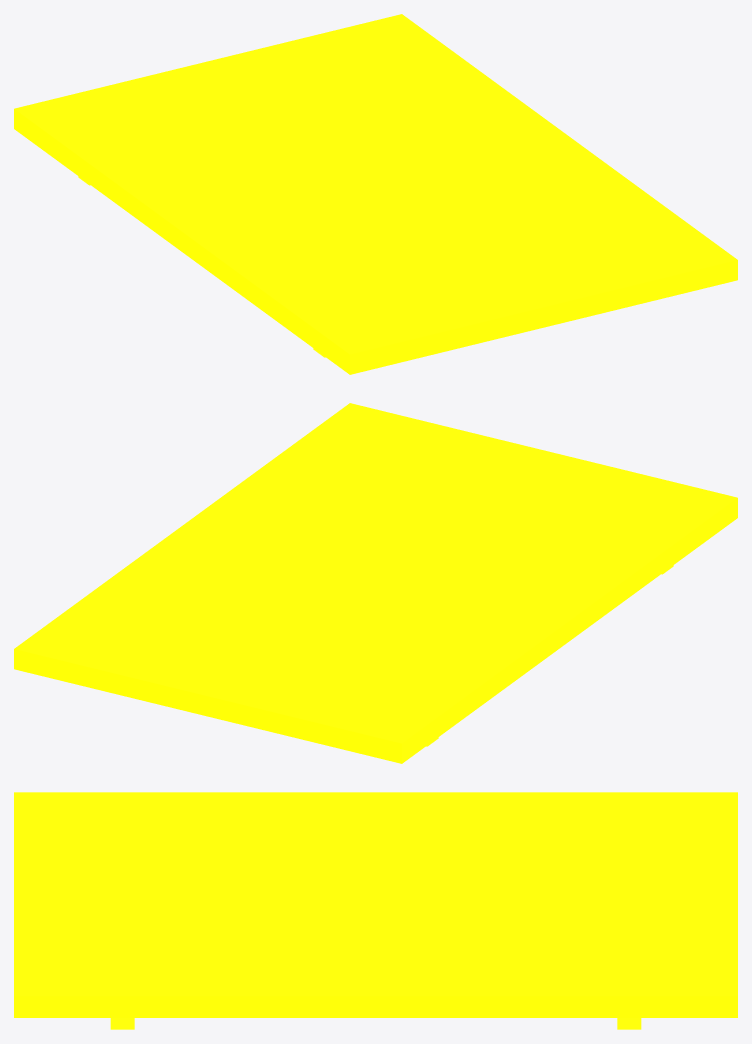
Rendered from solar-panel-house.glb.
3 views of the same model, one above another, from view 1: azimuth 30°, elevation 25°; view 2: azimuth 150°, elevation 25°; view 3: azimuth 270°, elevation 25° (orthographic). The views are drawn at different scales.
Parts seen in each view (by area): view 1: solar-panel-house; view 2: solar-panel-house; view 3: solar-panel-house.
Part boxes in pixels (x1,y1,x2,y2): solar-panel-house: [14, 14, 737, 374]; solar-panel-house: [14, 403, 737, 763]; solar-panel-house: [14, 792, 737, 1029].
Bounding box in the file's own units: 1 × 0.1 × 1.5.
1 material, 1 textured.
